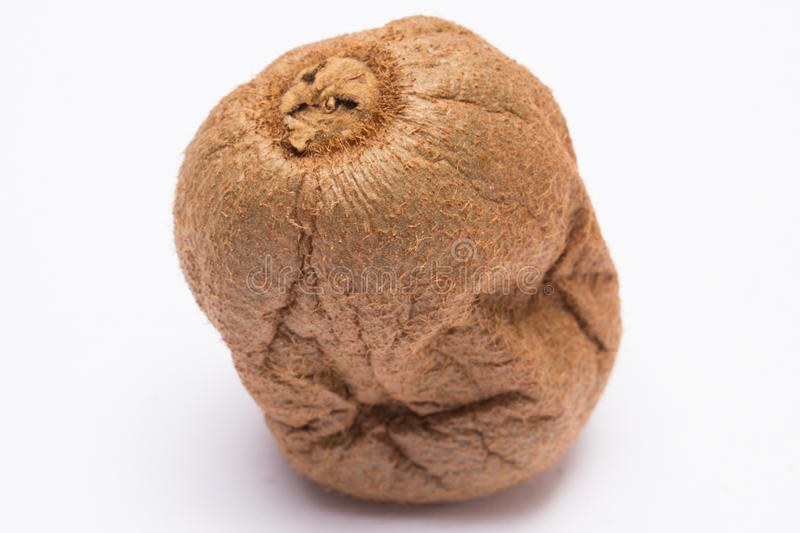damaged_kiwi: (174, 14, 616, 492)
